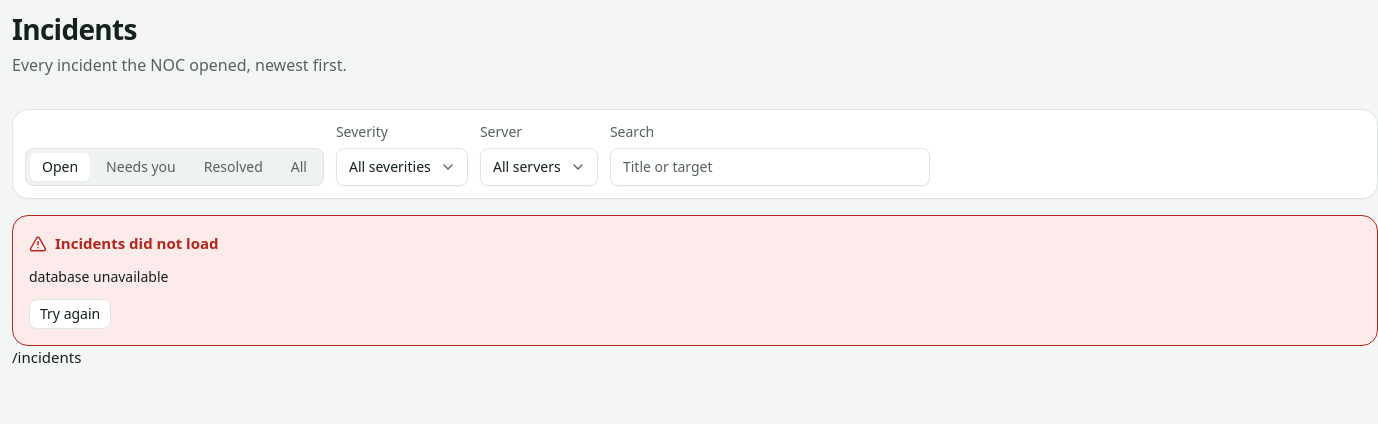
IncidentsPage › shows the error with the server's detail and retries on Try again
Expected: the text "database unavailable" is shown, x1=29 y1=267 x2=168 y2=287
Expected: the message shows "Incidents did not load", x1=55 y1=233 x2=218 y2=253
Step 1. Click the button "Try again" → click(70, 314), box x1=29 y1=299 x2=111 y2=329
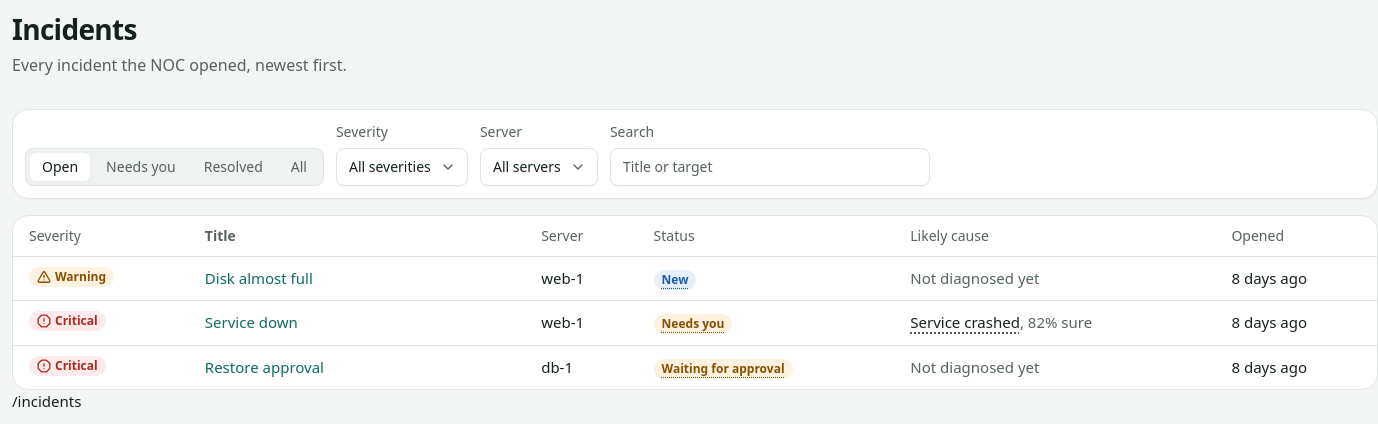
Expected: the link "Disk almost full" is shown, x1=205 y1=268 x2=313 y2=288
